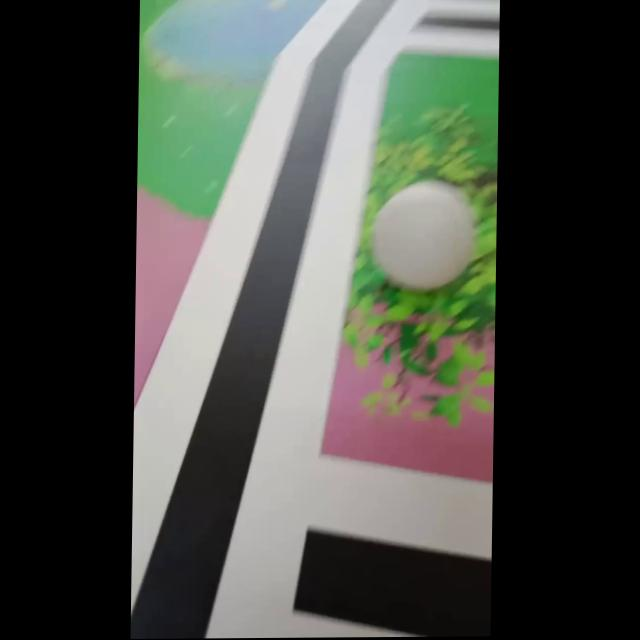white ball: (369, 178, 478, 292)
